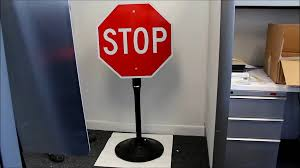stop sign: (98, 2, 173, 78)
